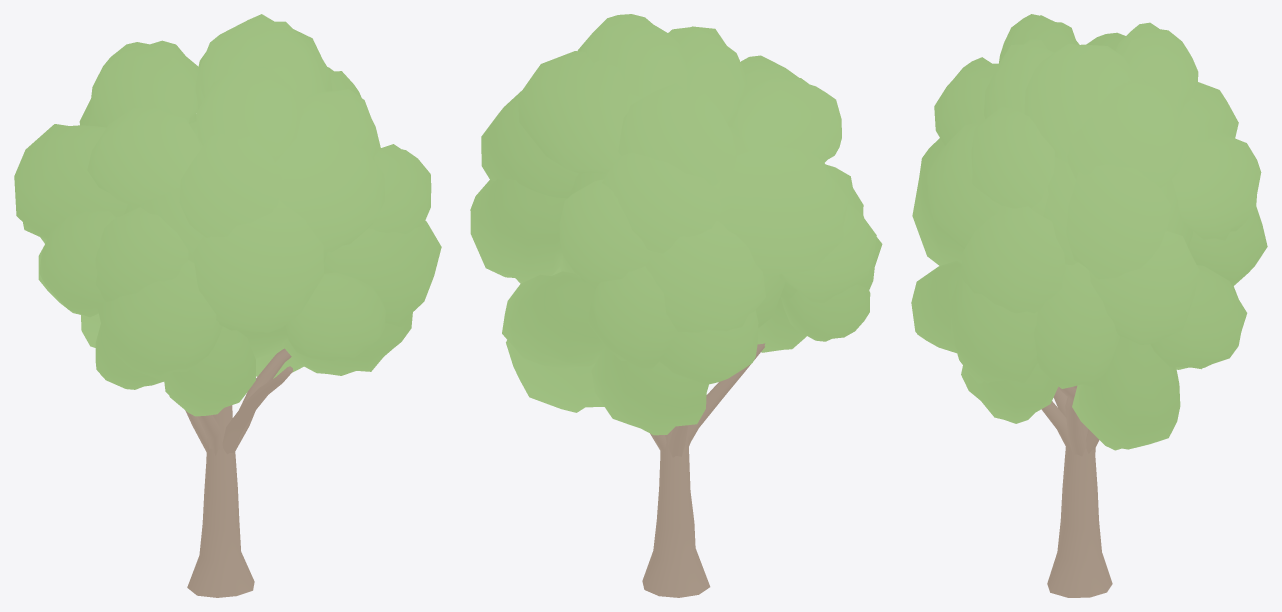
File: Blender_Maple_3.glb
3 renders of one model, left to right at view 1: azimuth 30°, elevation 25°; view 2: azimuth 150°, elevation 25°; view 3: azimuth 270°, elevation 25°, orthographic.
Visible parts, largest first — view 1: Blender_Maple_3; view 2: Blender_Maple_3; view 3: Blender_Maple_3.
Part boxes in pixels (x1,y1,x2,y2): Blender_Maple_3: (14,14,441,597); Blender_Maple_3: (470,14,882,597); Blender_Maple_3: (911,14,1267,597).
Bounding box in the file's own units: 15.76 × 22.72 × 13.14.
